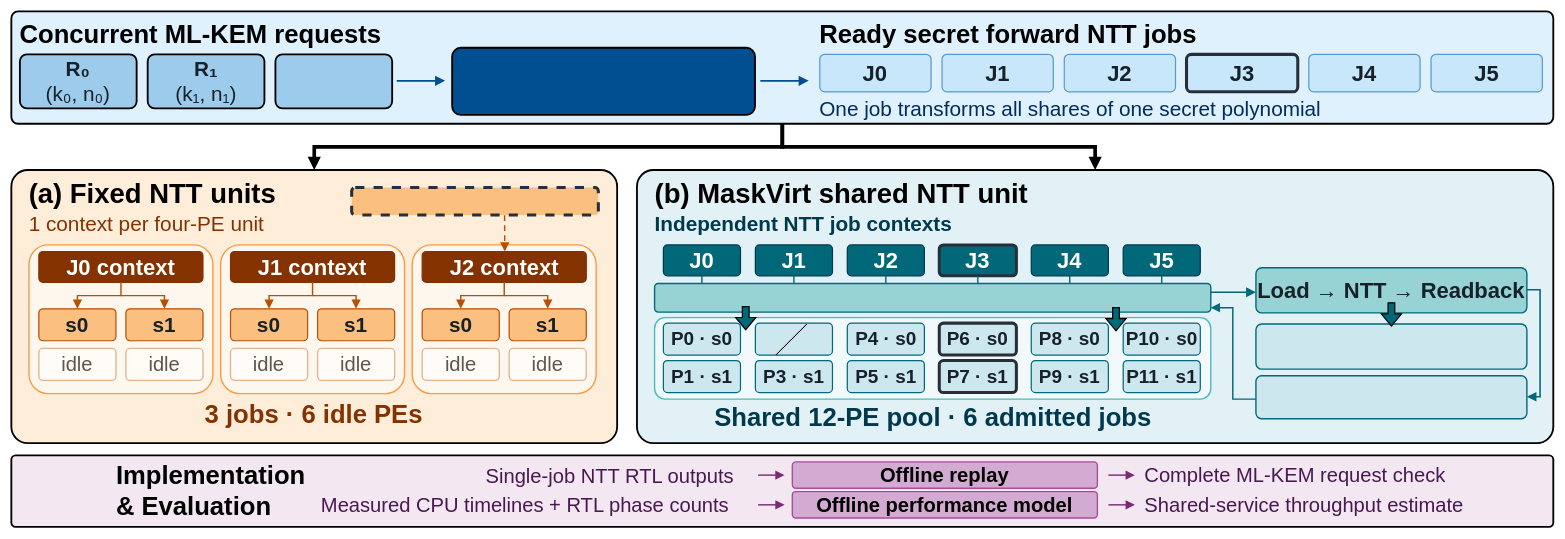
Some shapes in this 1565 by 539 pixel diagram are drawn without their labels. Here are the shapes that lost their labels. From the top down, the centre of each, then its label:
At point (333, 81): "R₂ (k₂, n₂)".
At point (603, 81): "Trusted CPU Request state & CPU stages".
At point (475, 201): "J3 waits · contexts full".
At point (932, 297): "Share-compatible PE allocation".
At point (793, 338): "P2 · s0".
At point (1391, 346): "Tagged result CPU resumes original request".
At point (1391, 397): "Cleanup Release context + PEs".
